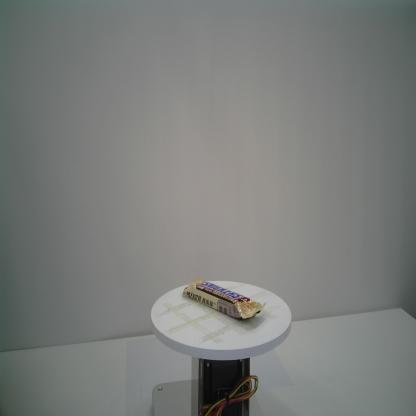Chocolate: (182, 276, 268, 319)
